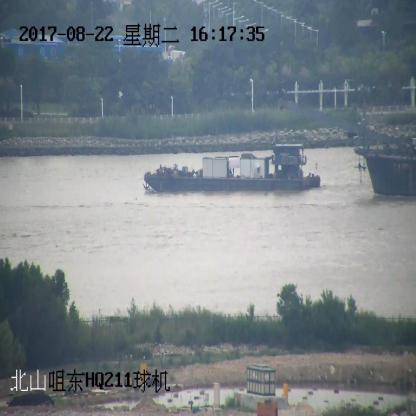Bulk Carrier: (281, 99, 415, 196), (142, 145, 322, 194)
